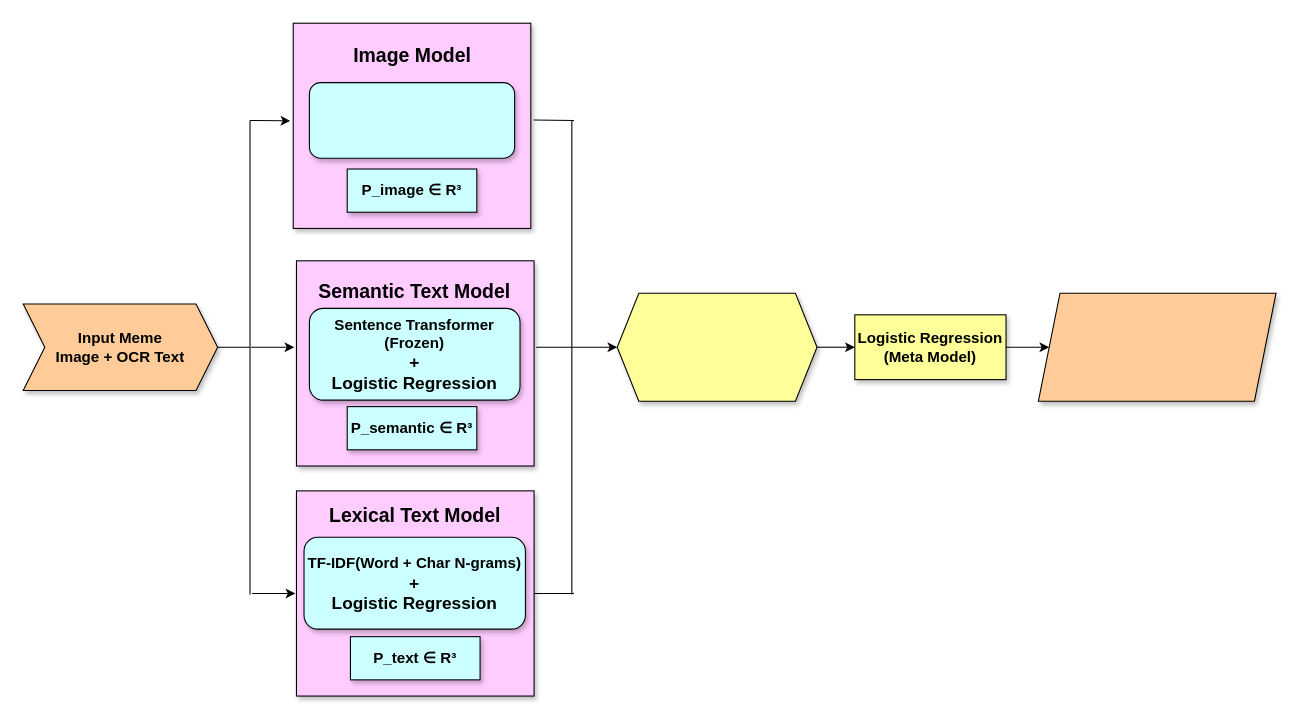
The diagram is 1301 pixels wide and 723 high, and some of its shapes have lost their labels. Here are the shapes that lost their labels. From the top down, the centre of each, then its label:
point 412,121: EfficientNet-B0 (Fine-tuned) + Sofmax
point 718,348: Concatenation [P_text; P_semantic; P_image] (9-D Meta Feature)
point 1157,348: Final Sentiment Prediction {Negative, Neutral, Positive}
